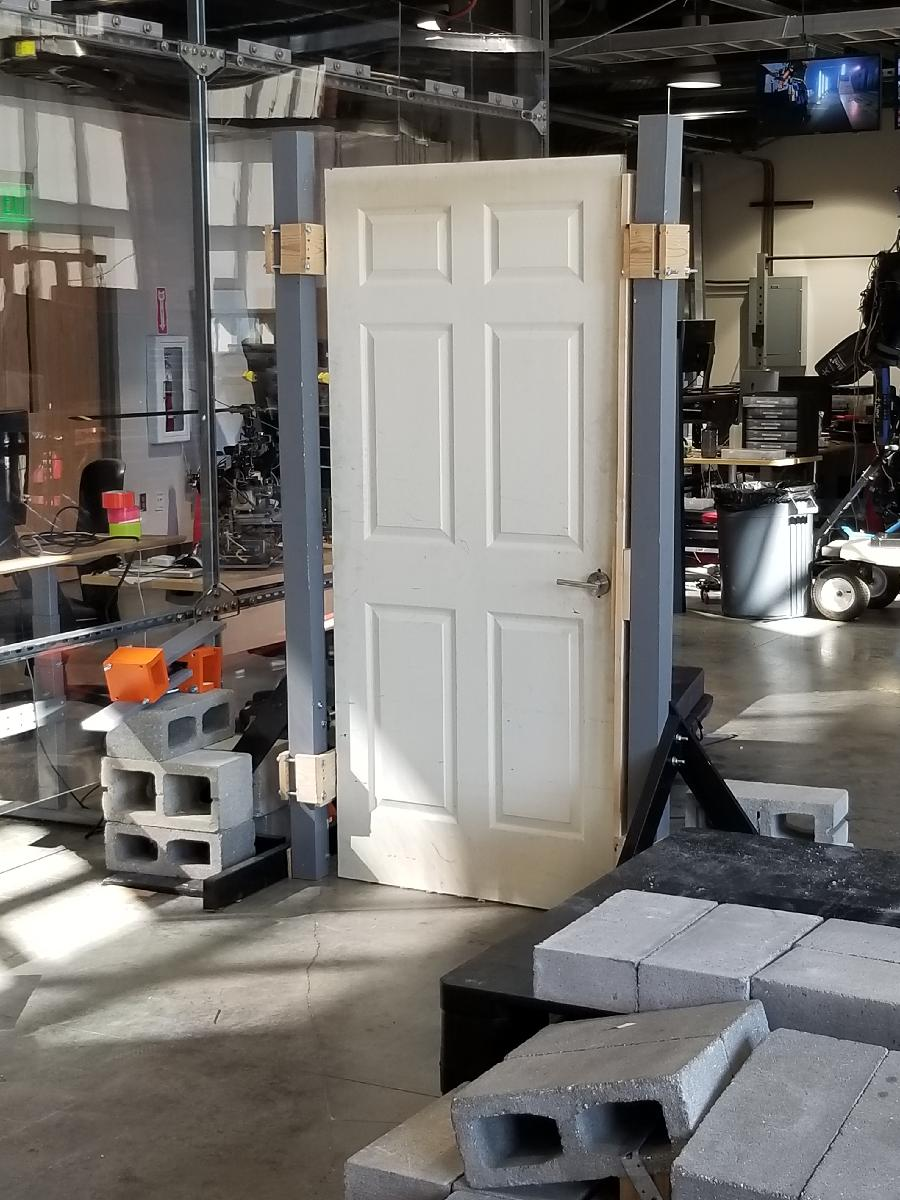door: (319, 151, 637, 919)
doorHandle: (552, 566, 613, 605)
